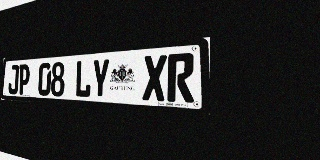0: (38, 62, 51, 96)
8: (50, 61, 65, 97)
J: (8, 65, 19, 94)
L: (75, 60, 92, 98)
P: (18, 64, 30, 95)
R: (167, 53, 195, 103)
X: (142, 54, 167, 101)
Y: (91, 58, 110, 99)
